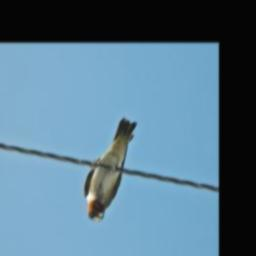Swallow: (84, 118, 140, 225)
